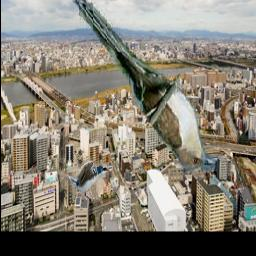Cuckoo: (71, 0, 219, 173)
Swallow: (59, 160, 110, 200)
